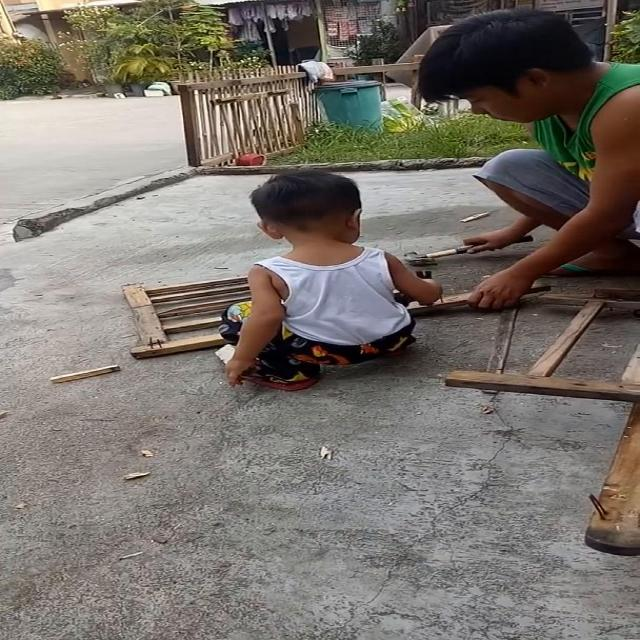hammer: (405, 234, 536, 266), (387, 270, 434, 307)
